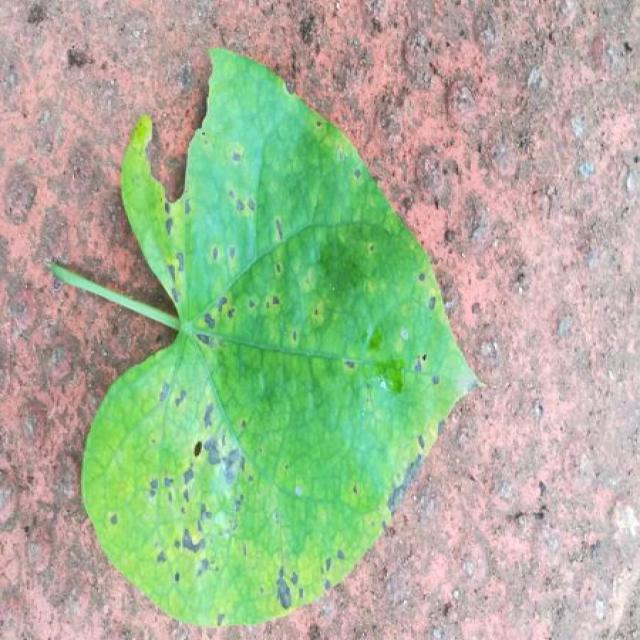Amruthaballi: (50, 49, 477, 626)
defectedAmruthaballi: (83, 341, 302, 625)
